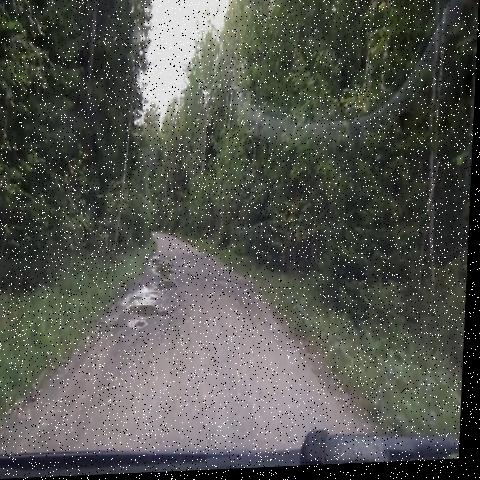pothole: (126, 294, 176, 325), (146, 250, 178, 282), (152, 274, 181, 303), (124, 315, 151, 343)
